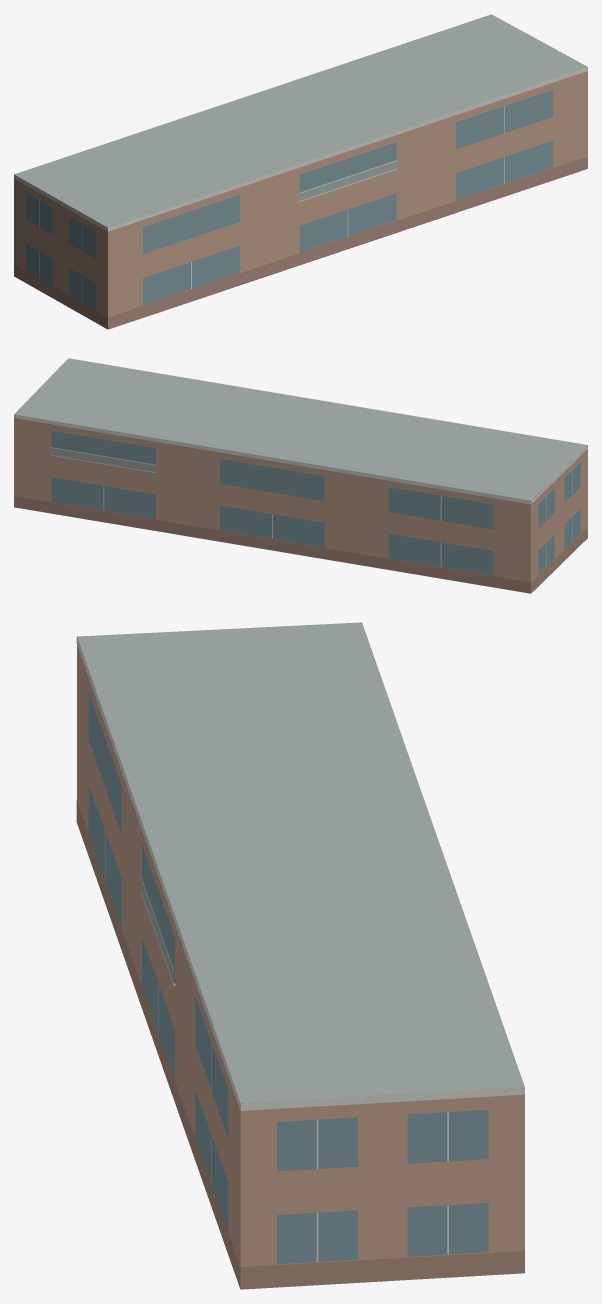
File: survey-upis-32742082.glb
The picture shows the model from 3 angles, top to bottom: view 1: azimuth 30°, elevation 25°; view 2: azimuth 150°, elevation 25°; view 3: azimuth 270°, elevation 25°; orthographic projection. The views are drawn at different scales.
Parts seen in each view (by area): view 1: survey-upis-32742082.tmp; view 2: survey-upis-32742082.tmp; view 3: survey-upis-32742082.tmp.
Part boxes in pixels (x1=…): survey-upis-32742082.tmp: x1=14, y1=14, x2=587, y2=329; survey-upis-32742082.tmp: x1=14, y1=358, x2=587, y2=593; survey-upis-32742082.tmp: x1=76, y1=622, x2=524, y2=1289.
Bounding box in the file's own units: 33.85 × 6.1 × 13.33.
